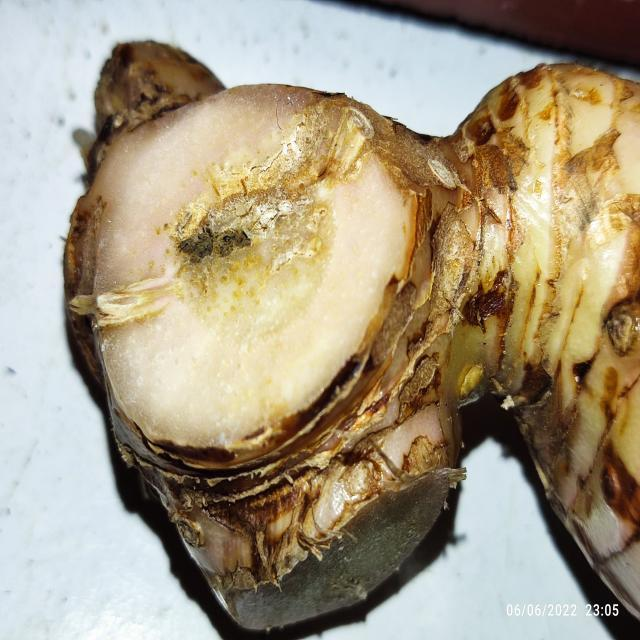ginger: (81, 44, 640, 556)
